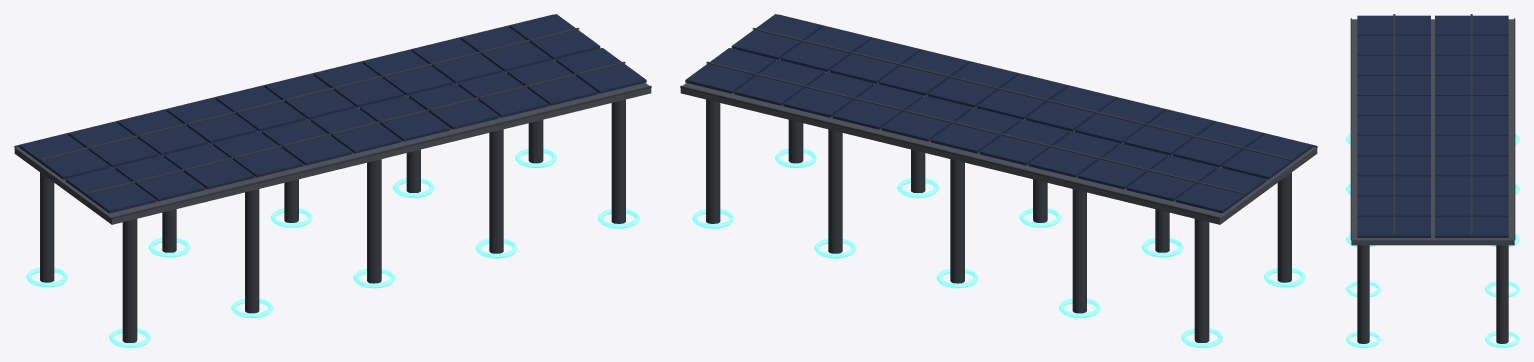
The model's file is pv_canopy_v2.glb.
The picture shows the model from 3 angles, left to right: view 1: azimuth 30°, elevation 25°; view 2: azimuth 150°, elevation 25°; view 3: azimuth 270°, elevation 25°; orthographic projection. The views are drawn at different scales.
Visible parts, largest first — view 1: part_beam, part_panel_0_0, part_panel_1_0, part_panel_0_2, part_panel_0_3, part_panel_0_1, part_panel_0_8, part_panel_0_4, part_panel_0_9, part_panel_0_5, part_panel_0_6, part_panel_0_7 (+23 smaller); view 2: part_beam, part_panel_1_0, part_panel_0_0, part_panel_1_2, part_panel_1_3, part_panel_1_1, part_panel_1_8, part_panel_1_4, part_panel_1_9, part_panel_1_5, part_panel_1_6, part_panel_1_7 (+23 smaller); view 3: part_beam, part_panel_0_10, part_panel_1_10, part_panel_0_9, part_panel_1_9, part_panel_0_0, part_panel_0_1, part_panel_0_2, part_panel_0_6, part_panel_0_7, part_panel_0_8, part_panel_1_0 (+19 smaller).
Part boxes in pixels (left/top/right/bottom): part_beam: left=14, top=59, right=651, bottom=224; part_panel_0_0: left=65, top=167, right=156, bottom=213; part_panel_1_0: left=19, top=133, right=109, bottom=179; part_panel_0_2: left=163, top=143, right=254, bottom=189; part_panel_0_3: left=212, top=131, right=303, bottom=177; part_panel_0_1: left=114, top=155, right=205, bottom=201; part_panel_0_8: left=458, top=72, right=548, bottom=117; part_panel_0_4: left=261, top=119, right=352, bottom=165; part_panel_0_9: left=507, top=60, right=597, bottom=105; part_panel_0_5: left=310, top=107, right=401, bottom=153; part_panel_0_6: left=360, top=95, right=450, bottom=141; part_panel_0_7: left=409, top=84, right=499, bottom=129; part_beam: left=680, top=59, right=1317, bottom=224; part_panel_1_0: left=1175, top=167, right=1266, bottom=213; part_panel_0_0: left=1222, top=133, right=1312, bottom=179; part_panel_1_2: left=1077, top=143, right=1168, bottom=189; part_panel_1_3: left=1028, top=131, right=1119, bottom=177; part_panel_1_1: left=1126, top=155, right=1217, bottom=201; part_panel_1_8: left=783, top=72, right=873, bottom=117; part_panel_1_4: left=979, top=119, right=1070, bottom=165; part_panel_1_9: left=734, top=60, right=824, bottom=105; part_panel_1_5: left=930, top=107, right=1021, bottom=153; part_panel_1_6: left=881, top=95, right=971, bottom=141; part_panel_1_7: left=832, top=84, right=922, bottom=129; part_beam: left=1351, top=19, right=1514, bottom=245; part_panel_0_10: left=1357, top=216, right=1430, bottom=237; part_panel_1_10: left=1435, top=216, right=1508, bottom=237; part_panel_0_9: left=1357, top=196, right=1430, bottom=216; part_panel_1_9: left=1435, top=196, right=1508, bottom=216; part_panel_0_0: left=1357, top=15, right=1430, bottom=35; part_panel_0_1: left=1357, top=35, right=1430, bottom=55; part_panel_0_2: left=1357, top=55, right=1430, bottom=75; part_panel_0_6: left=1357, top=136, right=1430, bottom=156; part_panel_0_7: left=1357, top=156, right=1430, bottom=176; part_panel_0_8: left=1357, top=176, right=1430, bottom=196; part_panel_1_0: left=1435, top=15, right=1508, bottom=35.
Size of the model in its own units: 12.8 by 3.17 by 4.26.
